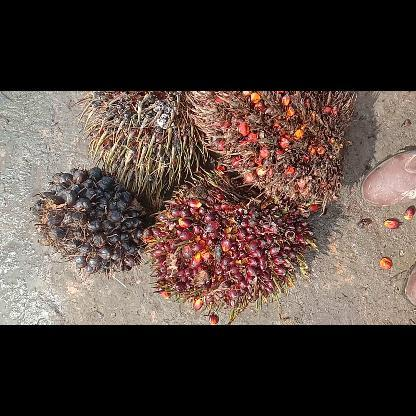TBS abnormal: (81, 90, 207, 202)
TBS masak: (142, 168, 318, 312)
TBS mentah: (34, 167, 146, 269)
Terlalu masak: (186, 90, 356, 220)
